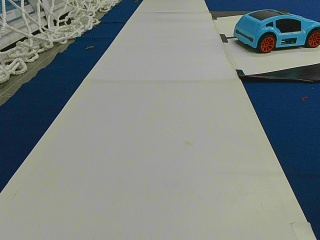car: (234, 11, 317, 52)
